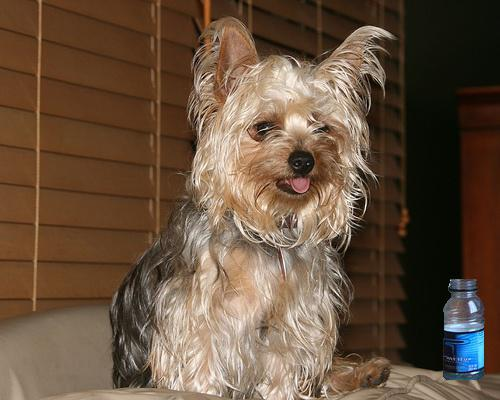tampered: (444, 280, 485, 380)
